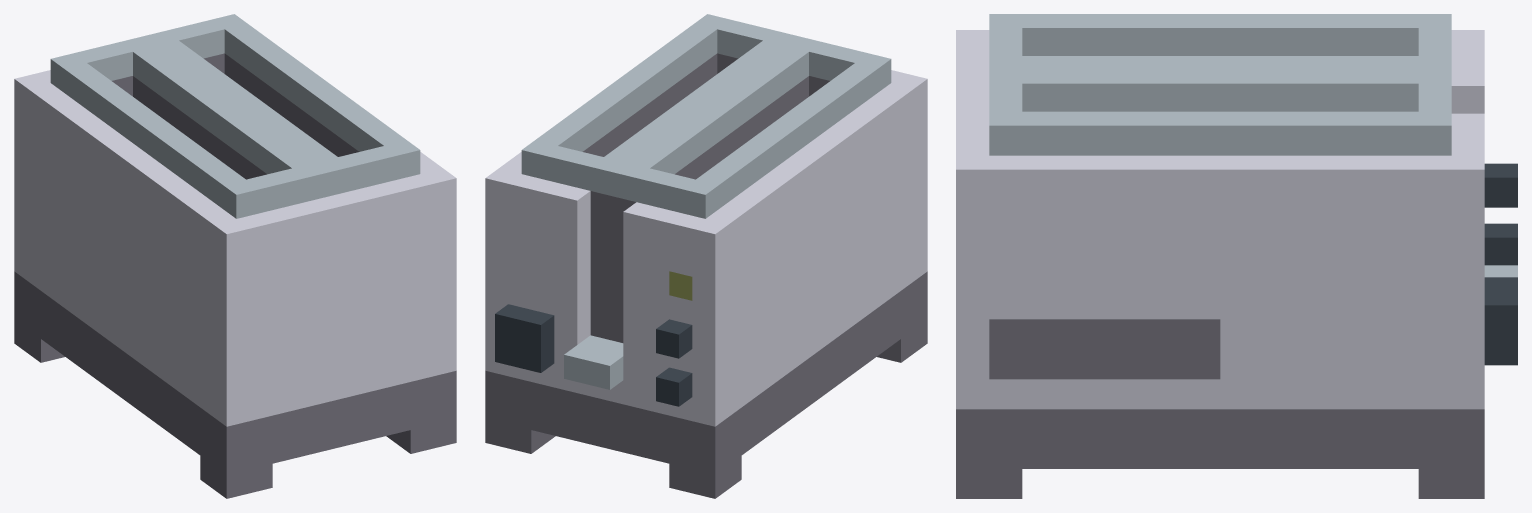
Rendered from toaster.dae.
3 renders of one model, left to right at view 1: azimuth 30°, elevation 25°; view 2: azimuth 150°, elevation 25°; view 3: azimuth 270°, elevation 25°, orthographic. The views are drawn at different scales.
Visible parts, largest first — view 1: Untitled; view 2: Untitled, Untitled.001; view 3: Untitled.
Part boxes in pixels (x1,y1,x2,y2): Untitled: (14, 14, 456, 498); Untitled: (485, 14, 927, 498); Untitled.001: (669, 271, 692, 300); Untitled: (956, 14, 1517, 498).
Bounding box in the file's own units: 0.3 × 0.51 × 0.36.
Materials: 2 (2 with a texture image).
